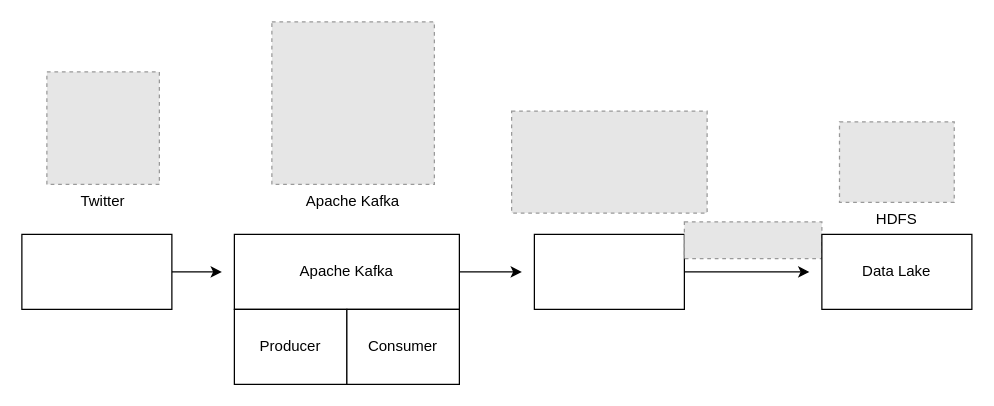
Some shapes in this 994 by 406 pixel diagram are drawn without their labels. Grey dashed boxes stand in for pictures. The centre of each missing label's shape, as x and y in pixels:
"Apache Spark Structured Streaming" belongs at point 608,271.
"Twitter API" belongs at point 96,271.
